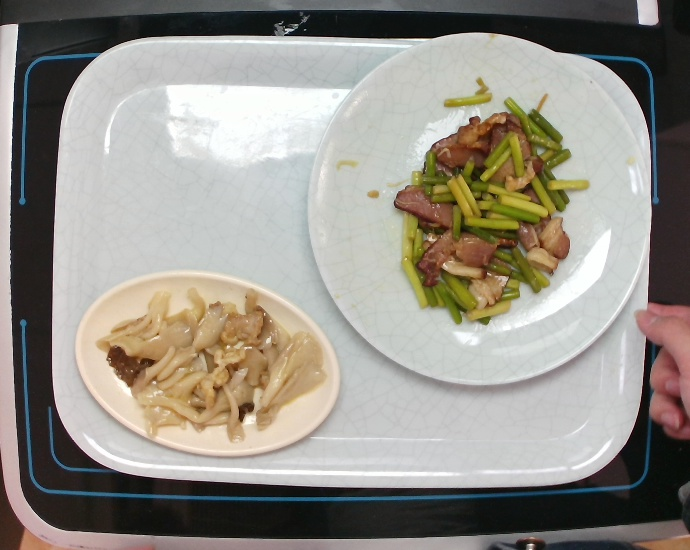JYsf-Da_Yuan_Pan: (305, 31, 653, 388)
JYsf-Tuo_Yuan_Wan: (72, 267, 343, 459)
